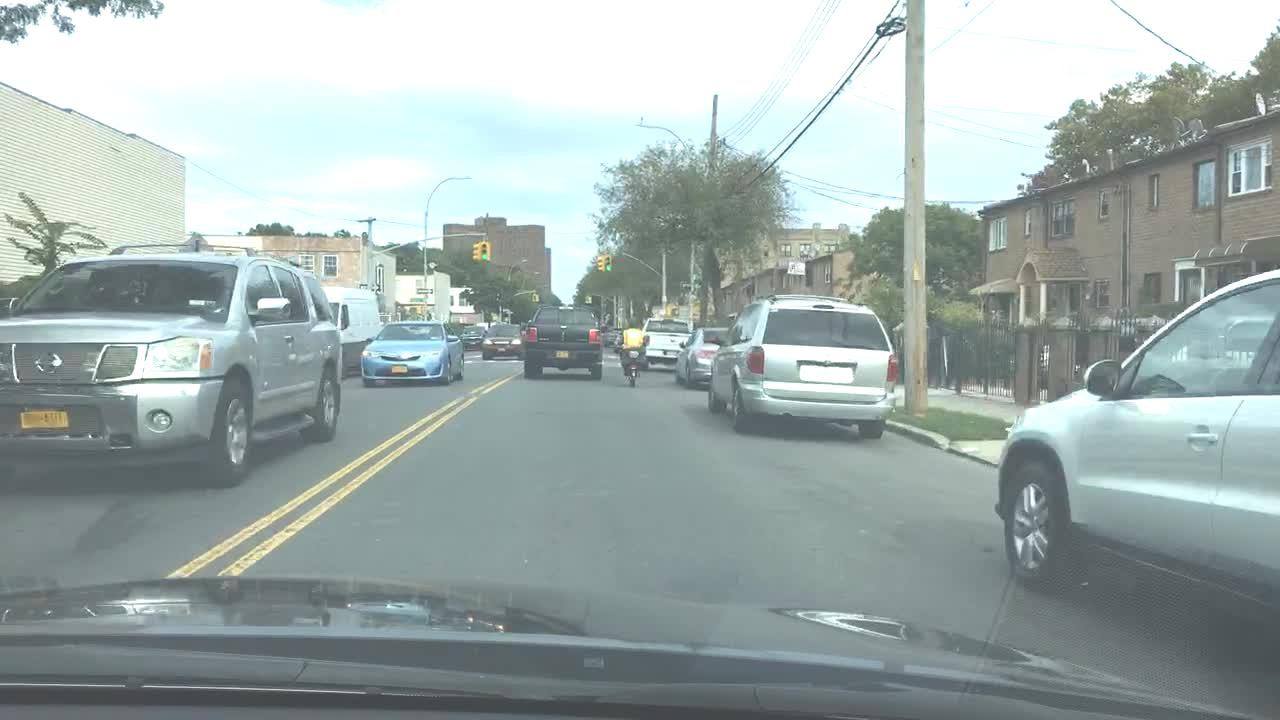Nissan: (25, 344, 81, 385)
